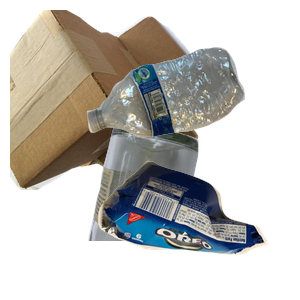cardboard: (10, 10, 206, 190)
glass: (86, 120, 277, 300)
plastic: (85, 45, 300, 175)
trash: (95, 158, 300, 300)
